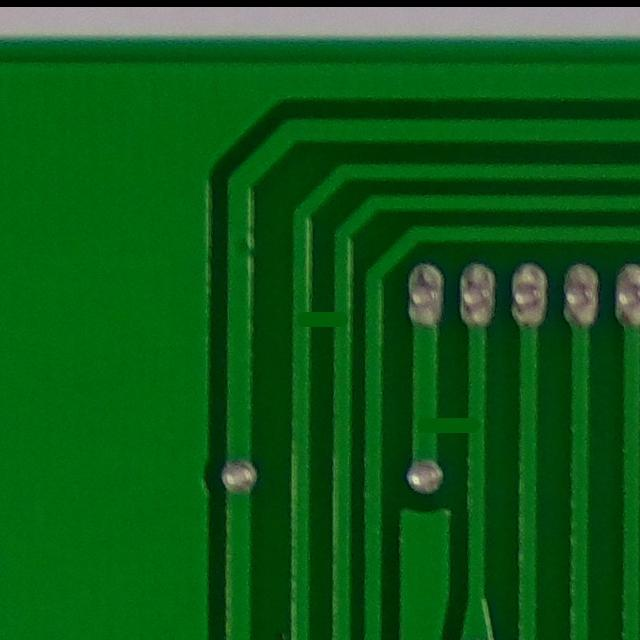short: (278, 290, 363, 350)
